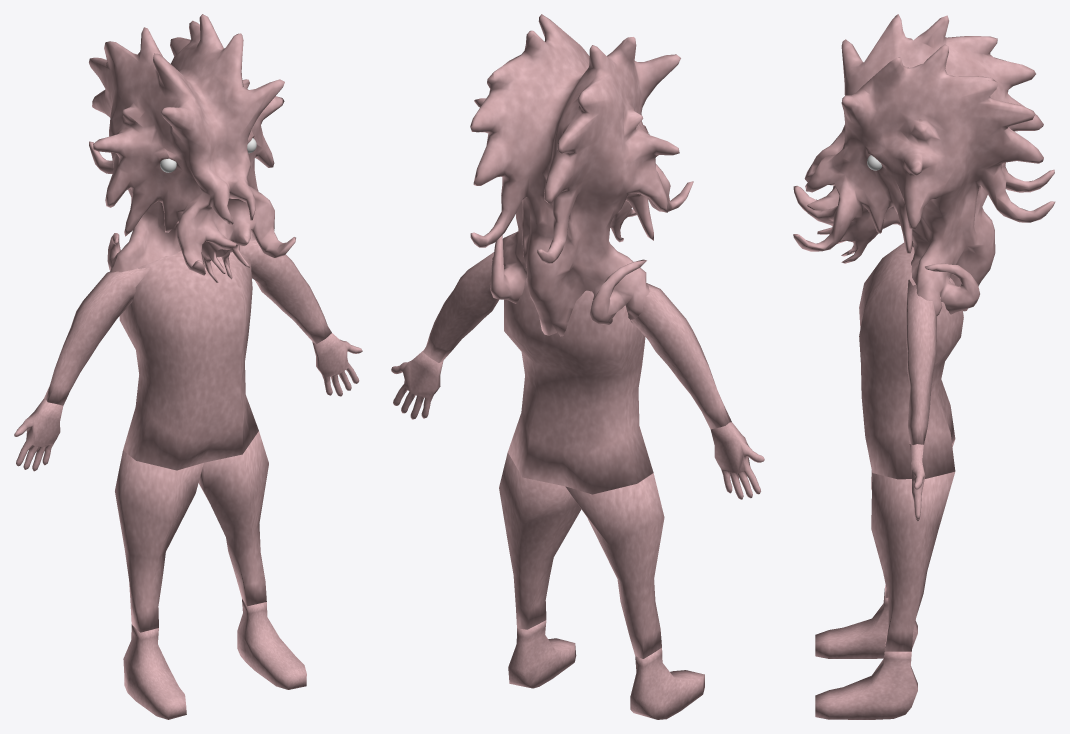
Rendered from AlienBodyMesh.fbx.
3 renders of one model, left to right at view 1: azimuth 30°, elevation 25°; view 2: azimuth 150°, elevation 25°; view 3: azimuth 270°, elevation 25°, orthographic. The views are drawn at different scales.
Parts seen in each view (by area): view 1: Torso; view 2: Torso; view 3: Torso.
Boxes of the visible parts, x1=… form: Torso: x1=14, y1=14, x2=362, y2=719; Torso: x1=391, y1=14, x2=764, y2=719; Torso: x1=793, y1=14, x2=1055, y2=719.
Size of the model in its own units: 944 by 1649 by 600.
